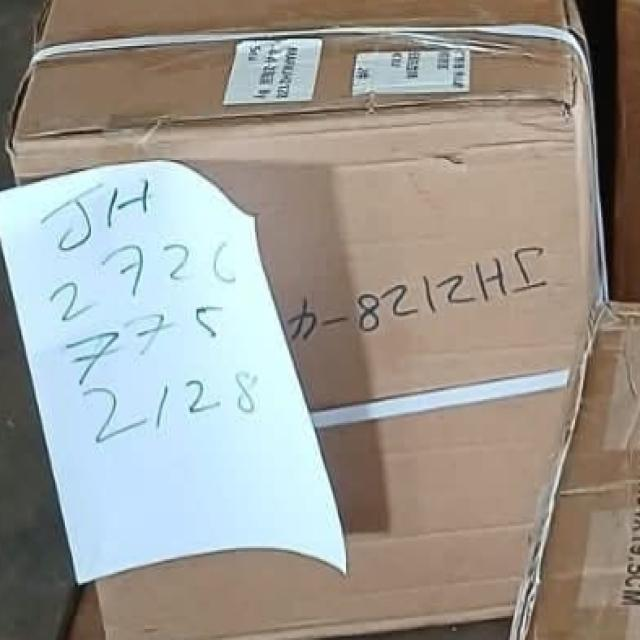carton_box: (0, 0, 630, 640)
export_mark_label: (214, 22, 326, 130), (344, 43, 490, 101)
package_damage: (38, 89, 580, 133), (4, 64, 46, 158)
